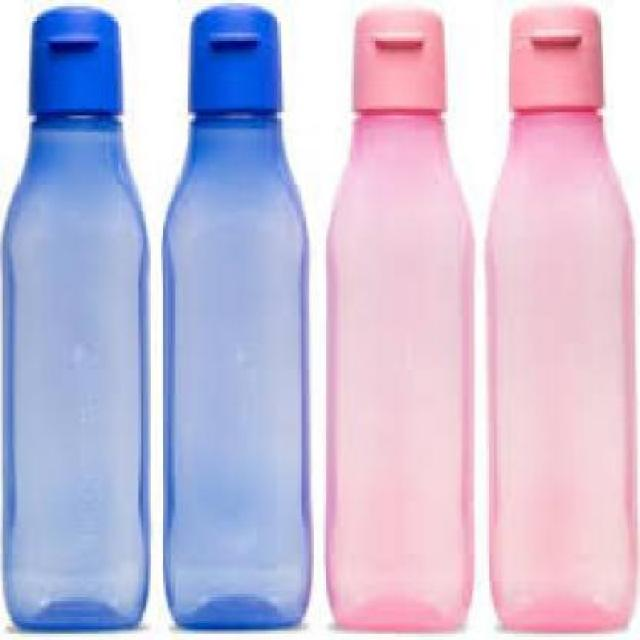Drinking: (324, 9, 479, 634), (163, 7, 317, 624), (2, 0, 153, 620)
